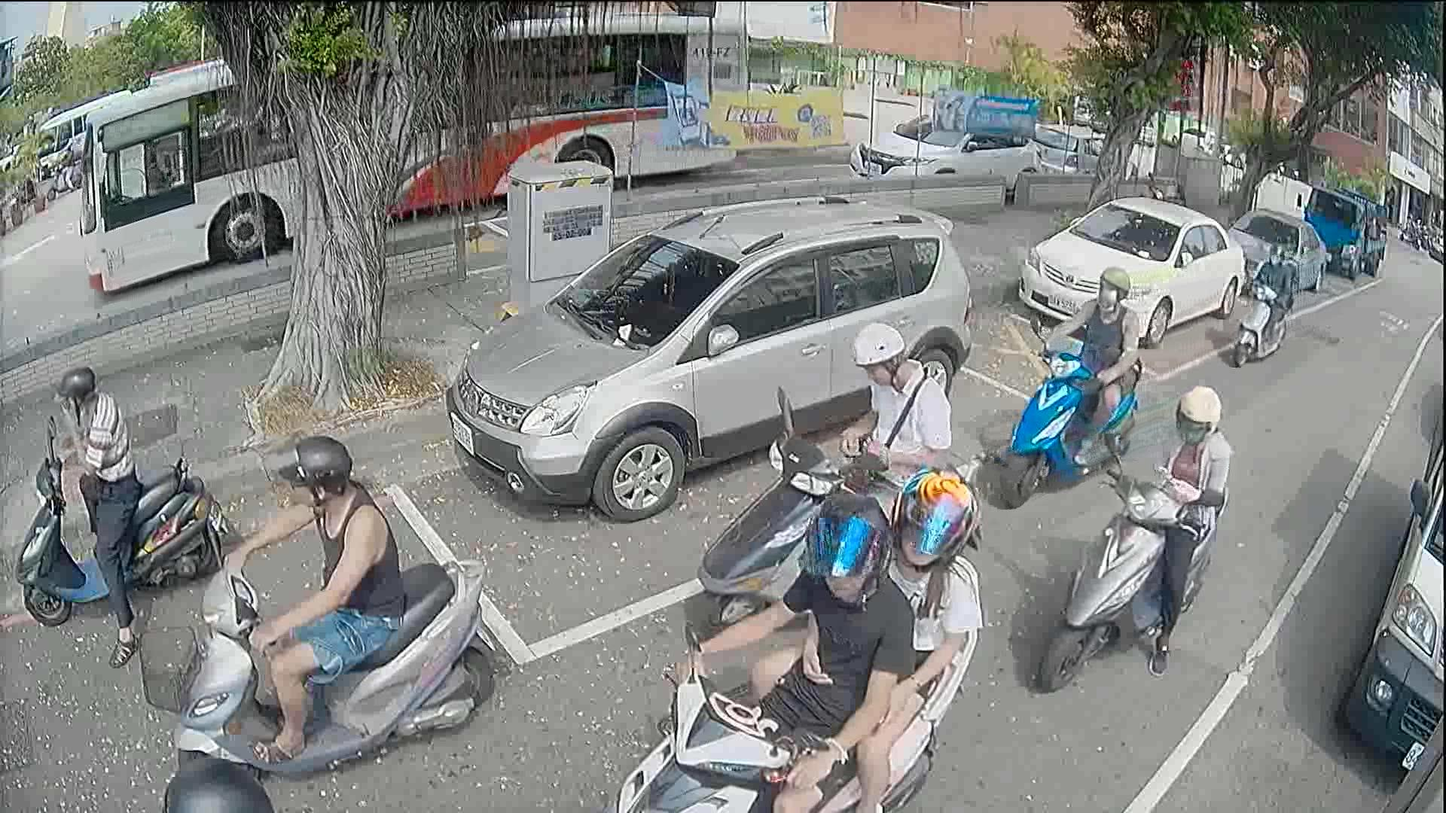person: (654, 487, 913, 812), (757, 461, 979, 812), (214, 423, 403, 769), (47, 355, 141, 669), (1130, 376, 1228, 676), (1025, 270, 1149, 483), (837, 316, 951, 506), (160, 748, 274, 811), (1252, 241, 1300, 340), (56, 136, 80, 189)
